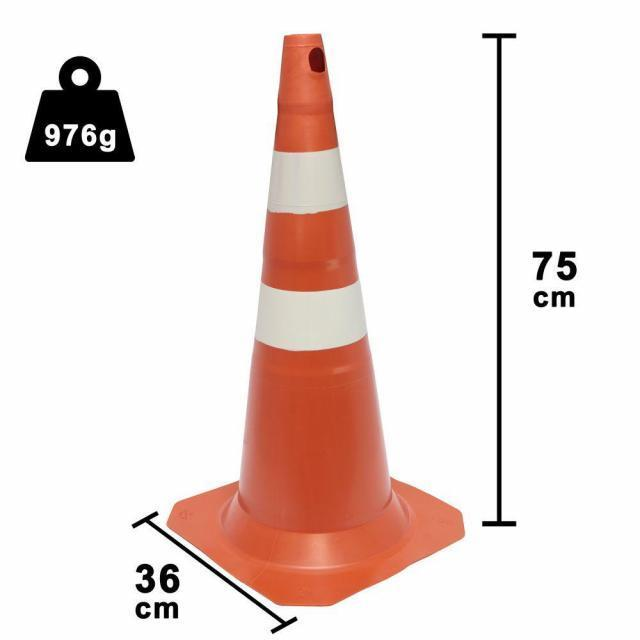traffic cone: (152, 34, 465, 608)
